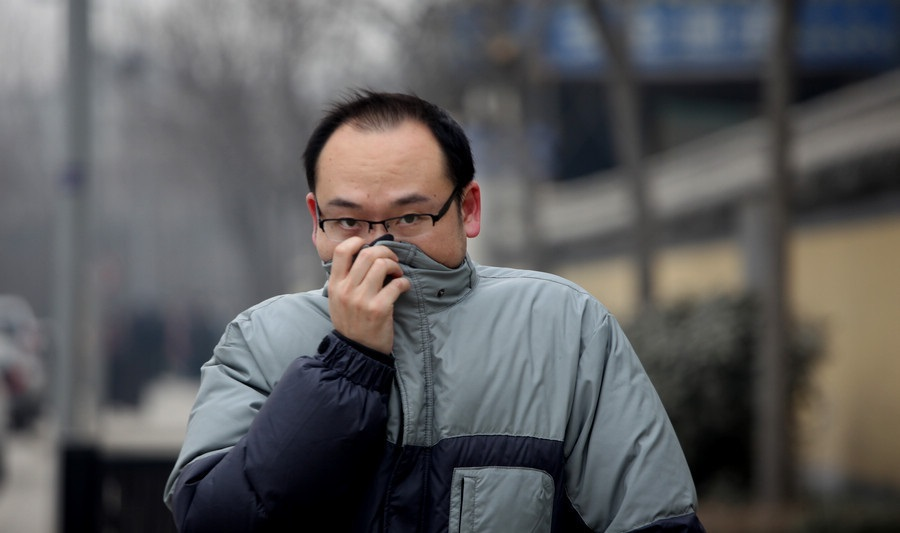face: (311, 135, 465, 303)
